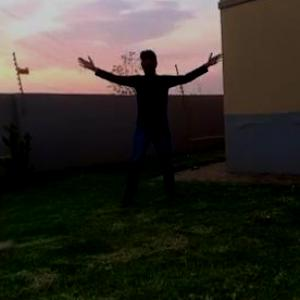takeoff: (54, 25, 206, 203)
